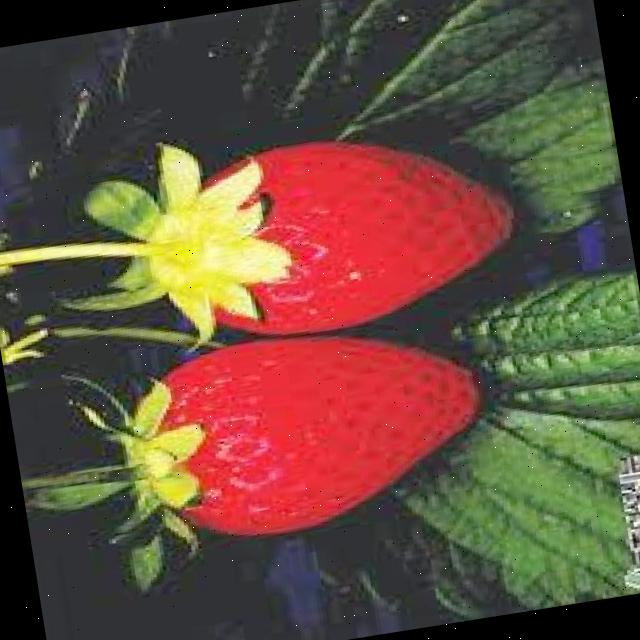strawberry: (140, 307, 493, 549), (186, 111, 530, 346)
